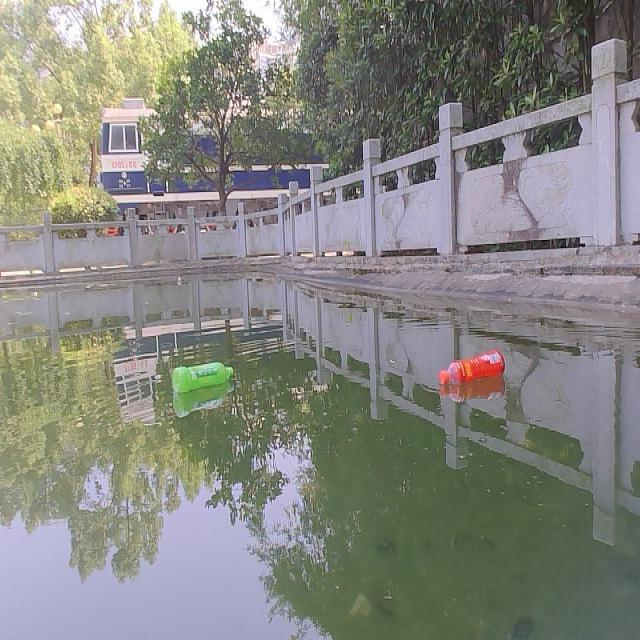Bottle: (434, 342, 512, 400), (165, 356, 239, 404)
